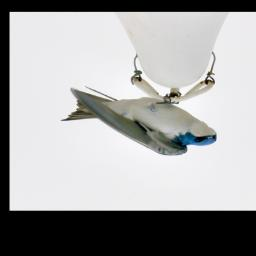Swallow: (59, 84, 217, 156)
